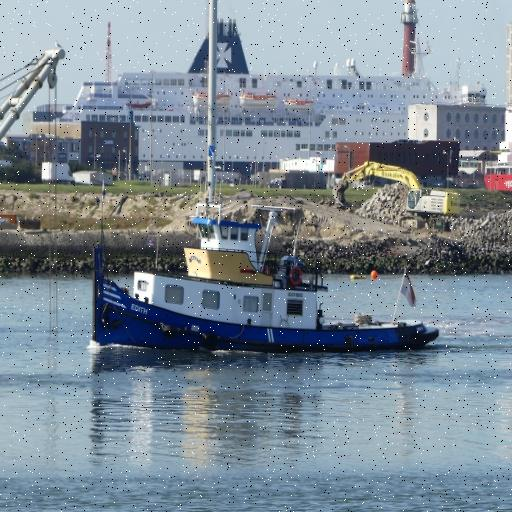tugboat: (87, 176, 442, 371)
